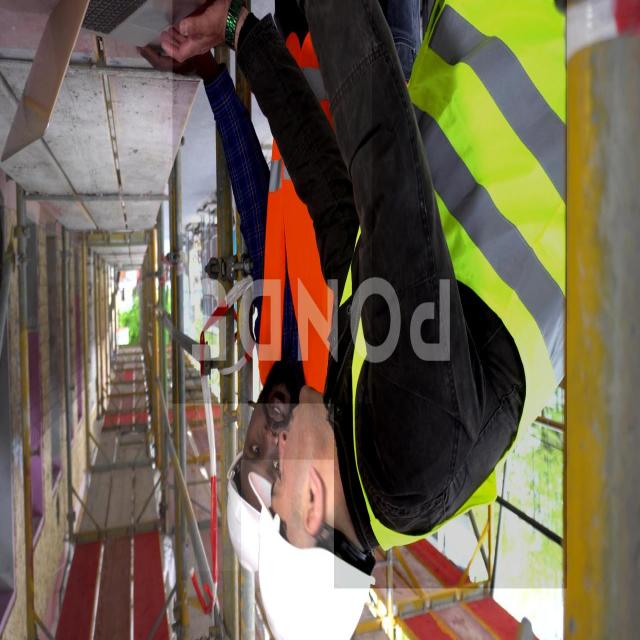Helmet: (241, 459, 391, 640), (196, 367, 298, 571)
Safety Vest: (334, 0, 567, 588), (172, 0, 372, 404)
